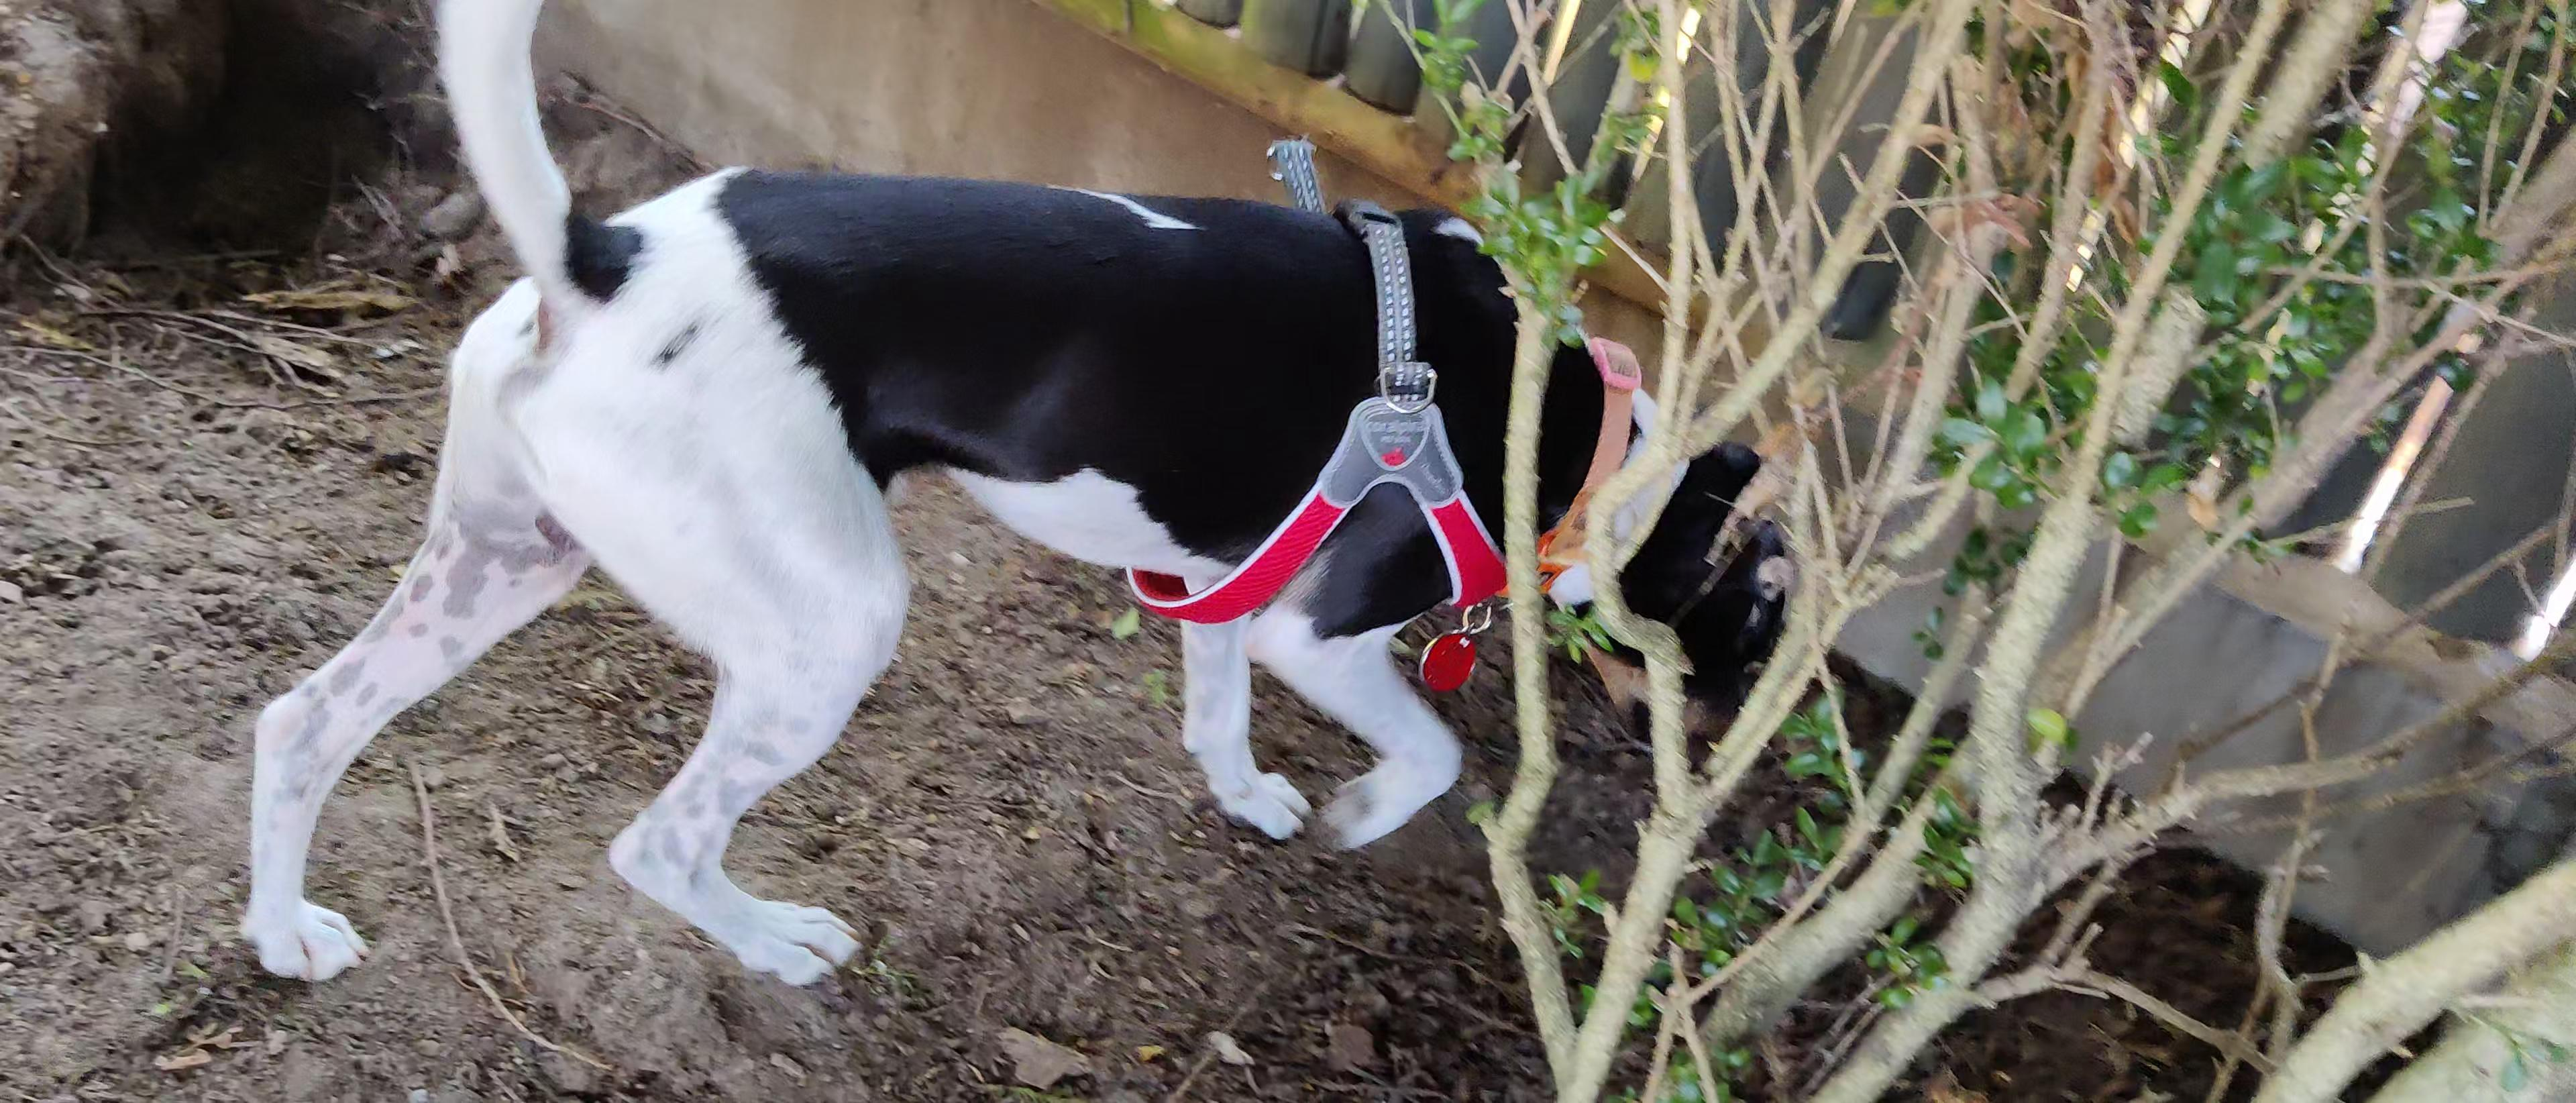Dog: (199, 0, 1815, 1019)
